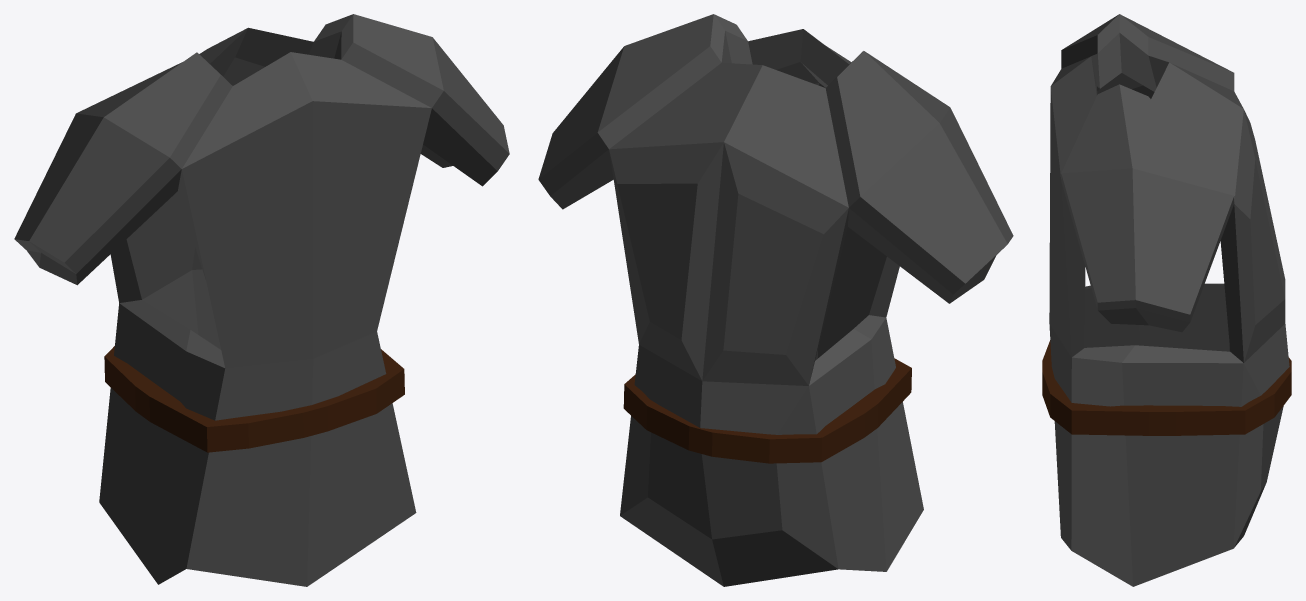
Rendered from armor 1.fbx.
3 renders of one model, left to right at view 1: azimuth 30°, elevation 25°; view 2: azimuth 150°, elevation 25°; view 3: azimuth 270°, elevation 25°, orthographic. The views are drawn at different scales.
Parts seen in each view (by area): view 1: armor; view 2: armor; view 3: armor.
Boxes of the visible parts, <box> form: armor: <box>14,14,509,586</box>; armor: <box>538,14,1013,586</box>; armor: <box>1042,14,1291,586</box>.
Bounding box in the file's own units: 73.12 × 78.11 × 36.15.
